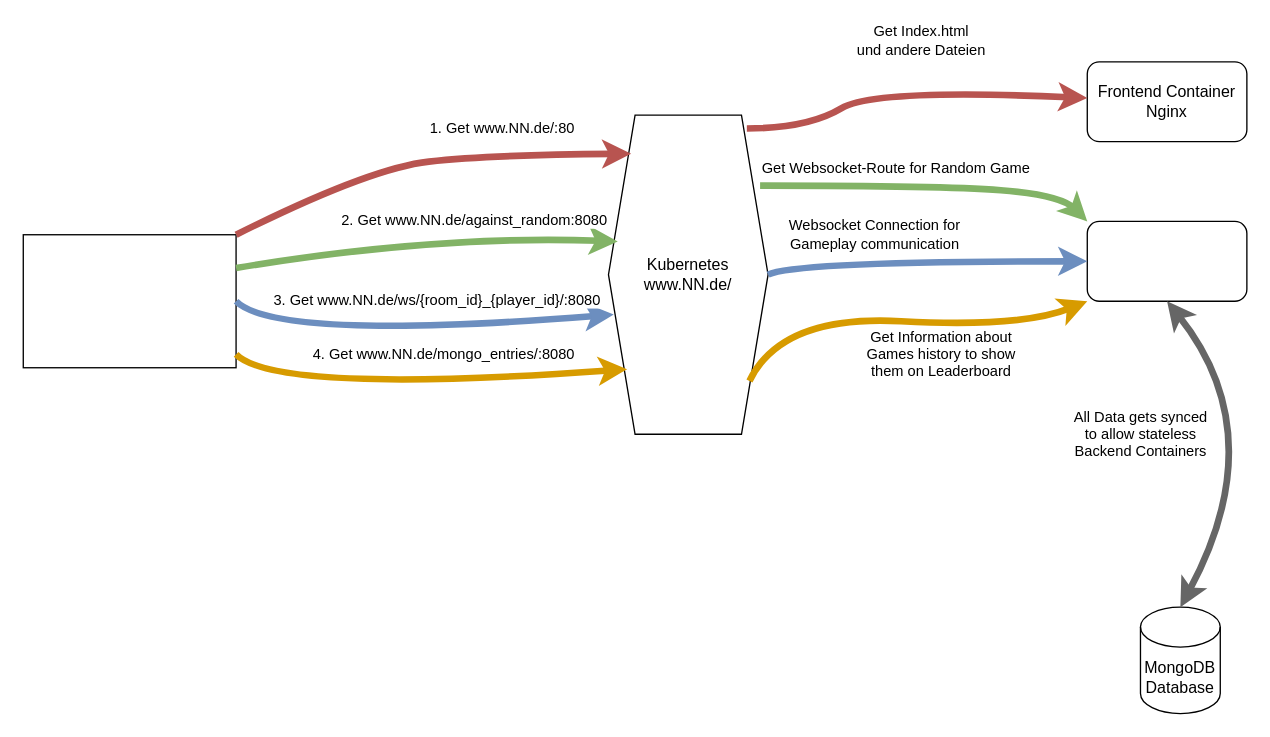
Some shapes in this 1270 by 737 pixel diagram are drawn without their labels. The centre of each missing label's shape, as x and y in pixels:
Backend ContainerFastAPI: [1166,260]
Broswer: [129,300]
